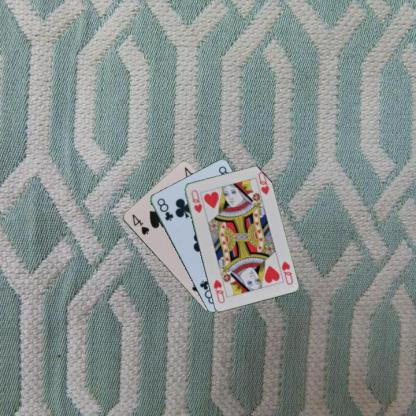4s: (130, 212, 151, 236)
8c: (154, 195, 174, 222)
Qh: (188, 187, 204, 214), (279, 258, 294, 286)
